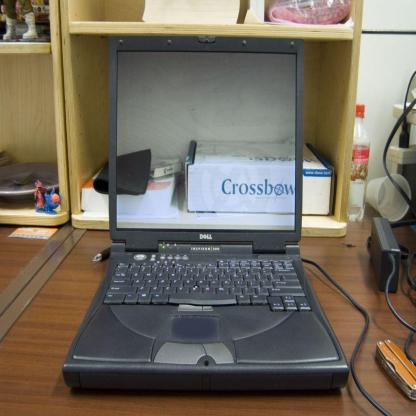board: (63, 31, 350, 396), (347, 104, 371, 222), (377, 339, 416, 401)
